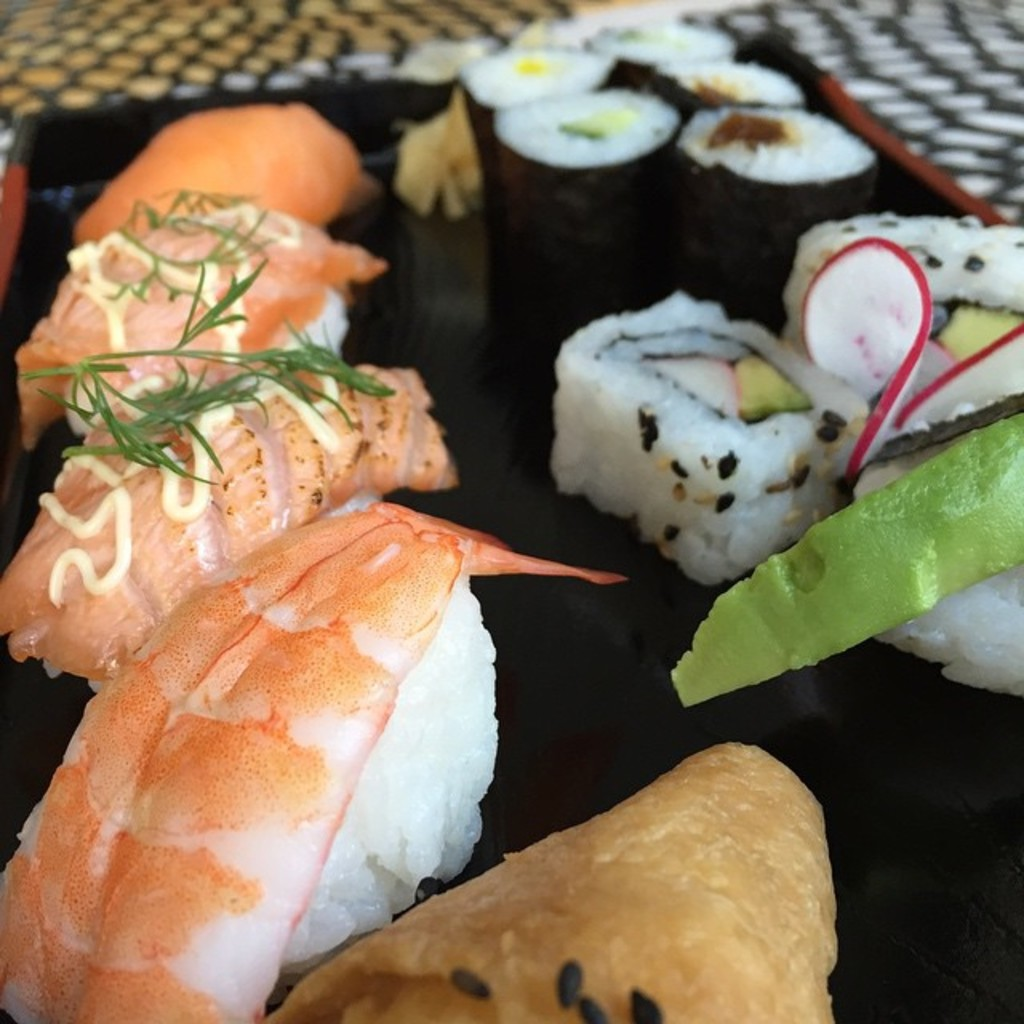sushi: (0, 101, 824, 1022), (459, 24, 1022, 690), (0, 507, 622, 1022)
